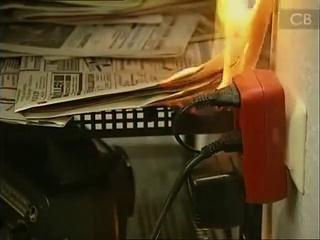Fire: (127, 1, 262, 119)
